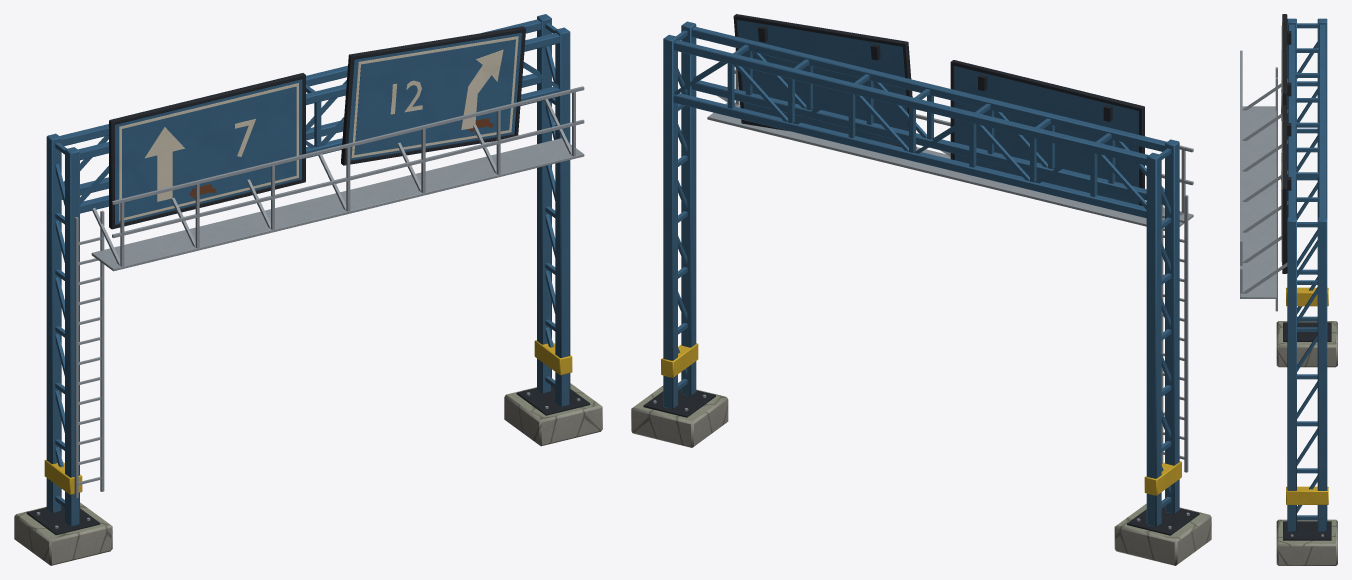
File: sign_gantry.glb
3 views of the same model, side by side, from view 1: azimuth 30°, elevation 25°; view 2: azimuth 150°, elevation 25°; view 3: azimuth 270°, elevation 25° (orthographic). The views are drawn at different scales.
Visible parts, largest first — view 1: sign_gantry; view 2: sign_gantry; view 3: sign_gantry.
Part boxes in pixels (bbox=[...]): sign_gantry: bbox=[14, 14, 602, 565]; sign_gantry: bbox=[631, 14, 1211, 565]; sign_gantry: bbox=[1240, 14, 1337, 565].
Bounding box in the file's own units: 8.7 × 6.51 × 1.6.
11 materials, 11 textured.
